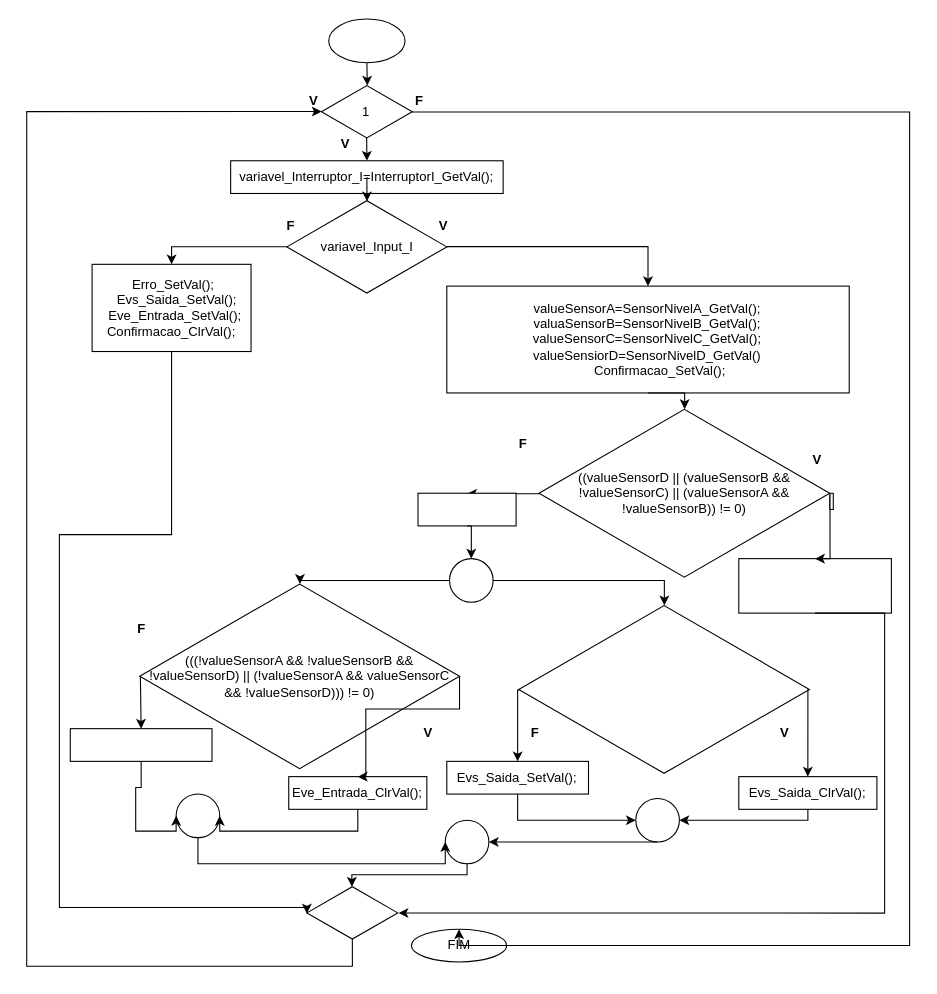
This 937x994 diagram has some shape labels left out. Here are the shapes that lost their labels. From the top down, the box of each, then its label:
(328, 18, 405, 63): Início
(417, 492, 516, 526): Erro_SetVal();
(738, 558, 891, 613): Eve_Entrada_SetVal(); Evs_Saida_SetVal(); Erro_ClrVal();
(518, 601, 809, 777): ((valueSensorB && valueSensorC && !valueSensorD) != 0)
(69, 728, 212, 761): Eve_Entrada_SetVal();
